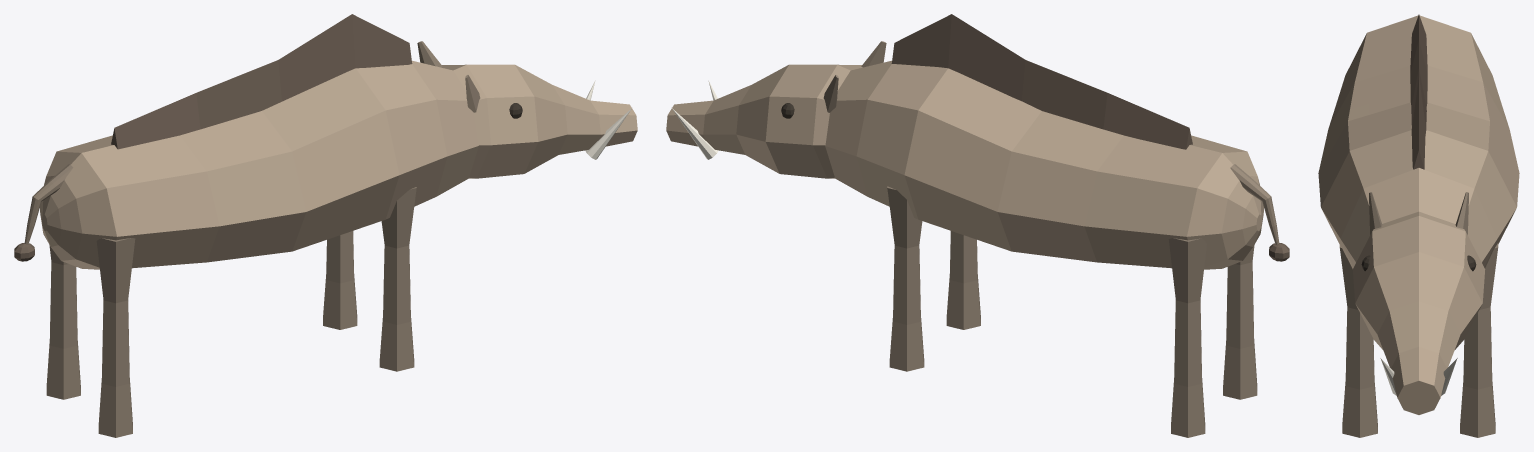
The model's file is 36-Fauna_jabali.glb.
3 views of the same model, side by side, from view 1: azimuth 30°, elevation 25°; view 2: azimuth 150°, elevation 25°; view 3: azimuth 270°, elevation 25° (orthographic). The views are drawn at different scales.
Visible parts, largest first — view 1: SM_Jabali_M_Jabali_Pelo, SM_Jabali_M_Jabali_Pelo_Oscuro, SM_Jabali_M_Jabali_Cresta; view 2: SM_Jabali_M_Jabali_Pelo, SM_Jabali_M_Jabali_Pelo_Oscuro, SM_Jabali_M_Jabali_Cresta; view 3: SM_Jabali_M_Jabali_Pelo, SM_Jabali_M_Jabali_Pelo_Oscuro, SM_Jabali_M_Jabali_Cresta, SM_Jabali_M_Jabali_Colmillo, SM_Jabali_M_Jabali_Ojos.
Part boxes in pixels (box(x1,y1,x2,y2)): SM_Jabali_M_Jabali_Pelo: box(40, 60, 637, 269); SM_Jabali_M_Jabali_Pelo_Oscuro: box(24, 41, 480, 437); SM_Jabali_M_Jabali_Cresta: box(14, 14, 412, 261); SM_Jabali_M_Jabali_Pelo: box(666, 60, 1263, 269); SM_Jabali_M_Jabali_Pelo_Oscuro: box(823, 41, 1279, 437); SM_Jabali_M_Jabali_Cresta: box(891, 14, 1289, 261); SM_Jabali_M_Jabali_Pelo: box(1318, 15, 1519, 414); SM_Jabali_M_Jabali_Pelo_Oscuro: box(1339, 192, 1498, 437); SM_Jabali_M_Jabali_Cresta: box(1410, 14, 1427, 169); SM_Jabali_M_Jabali_Colmillo: box(1380, 358, 1457, 395); SM_Jabali_M_Jabali_Ojos: box(1361, 255, 1476, 271).
Bounding box in the file's own units: 3.37 × 1.74 × 0.9196.
